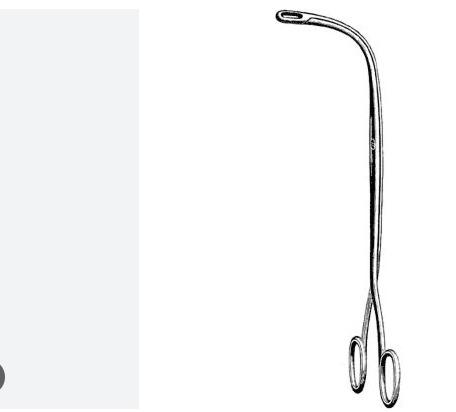Randall Forceps: (272, 8, 413, 408)
